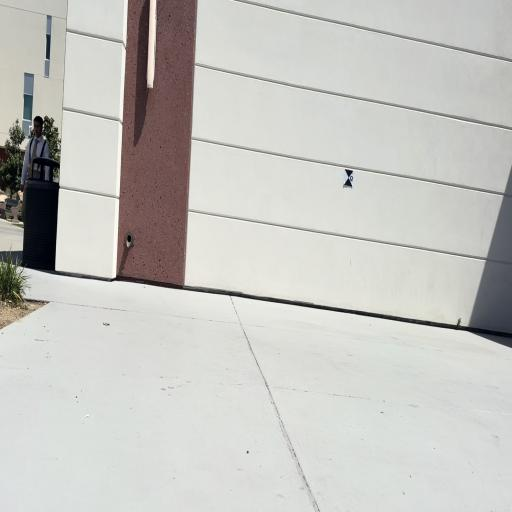target0: (344, 168, 354, 189)
